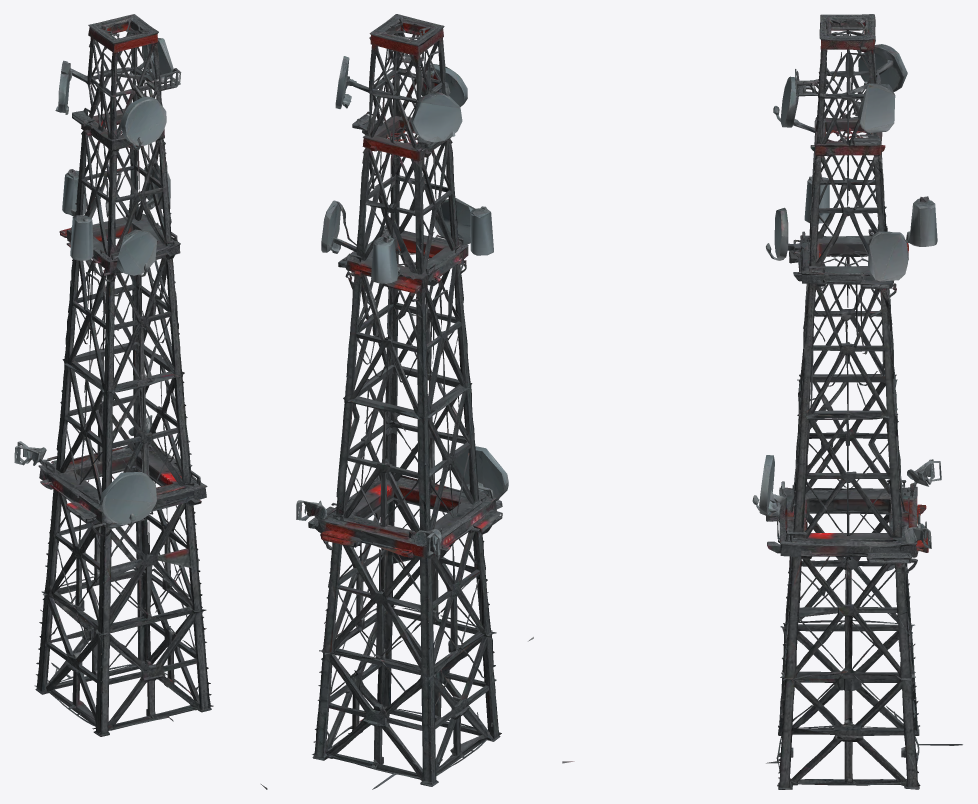
The model's file is mx_map_radio_tower.glb.
3 renders of one model, left to right at view 1: azimuth 30°, elevation 25°; view 2: azimuth 150°, elevation 25°; view 3: azimuth 270°, elevation 25°, orthographic. The views are drawn at different scales.
Size of the model in its own units: 0.4015 by 1.9 by 0.9424.
1 material, 1 textured.
